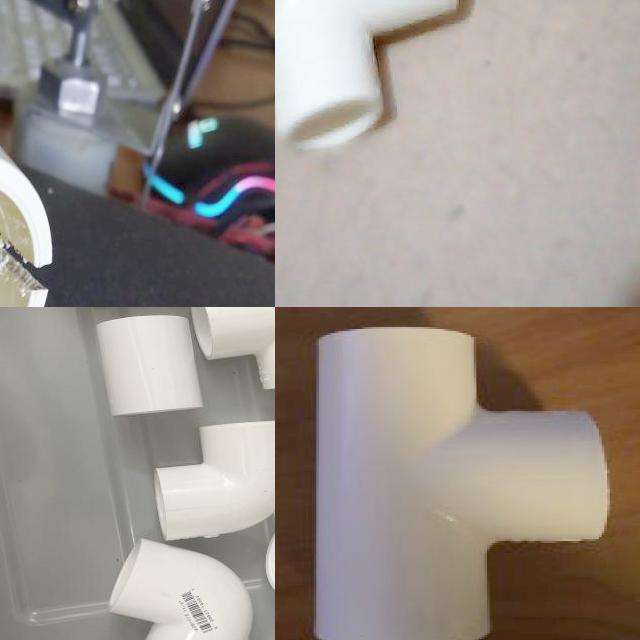Defective: (0, 210, 66, 293)
L Joint: (153, 421, 275, 542), (108, 539, 253, 640)
T Joint: (312, 327, 611, 640), (275, 0, 475, 156), (191, 307, 275, 393)
